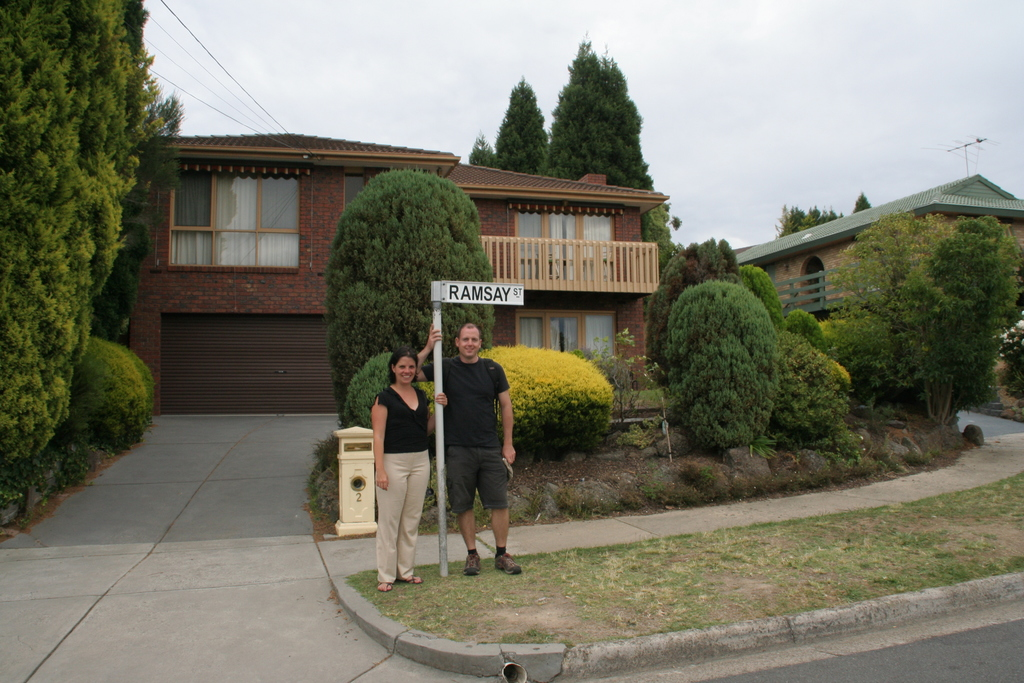Tree: (0, 0, 183, 514), (818, 210, 1023, 434), (330, 166, 488, 418), (547, 40, 659, 181), (468, 73, 544, 176), (771, 190, 871, 240)
